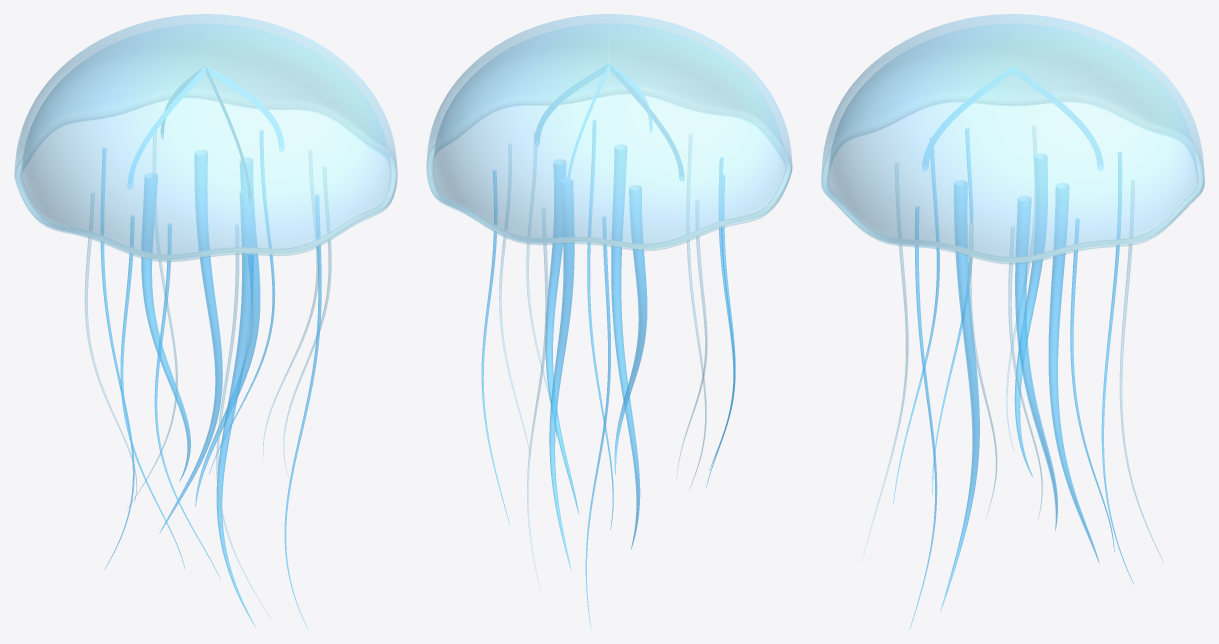
Rendered from glass-jellyfish.glb.
The picture shows the model from 3 angles, left to right: view 1: azimuth 30°, elevation 25°; view 2: azimuth 150°, elevation 25°; view 3: azimuth 270°, elevation 25°; orthographic projection. The views are drawn at different scales.
Visible parts, largest first — view 1: Thin rounded glass bell, Soft glass lip, Inner flowing arm 12, Inner flowing arm 11, Inner flowing arm 13, Inner flowing arm 14, Fine glass tentacle 4, Fine glass tentacle 8, Fine glass tentacle 7, Fine glass tentacle 2, Fine glass tentacle 10, Fine glass tentacle 6 (+6 smaller); view 2: Thin rounded glass bell, Inner flowing arm 12, Soft glass lip, Inner flowing arm 11, Inner flowing arm 14, Inner flowing arm 13, Fine glass tentacle 4, Fine glass tentacle 8, Fine glass tentacle 3, Fine glass tentacle 6, Fine glass tentacle 10, Fine glass tentacle 7 (+6 smaller); view 3: Thin rounded glass bell, Soft glass lip, Inner flowing arm 12, Inner flowing arm 11, Inner flowing arm 14, Inner flowing arm 13, Fine glass tentacle 8, Fine glass tentacle 4, Fine glass tentacle 3, Fine glass tentacle 7, Fine glass tentacle 6, Fine glass tentacle 2 (+5 smaller).
Part boxes in pixels (x1=…): Thin rounded glass bell: x1=14, y1=14, x2=397, y2=259; Soft glass lip: x1=14, y1=151, x2=397, y2=262; Inner flowing arm 12: x1=216, y1=189, x2=255, y2=627; Inner flowing arm 11: x1=159, y1=150, x2=222, y2=533; Inner flowing arm 13: x1=141, y1=173, x2=190, y2=481; Inner flowing arm 14: x1=195, y1=158, x2=260, y2=506; Fine glass tentacle 4: x1=284, y1=195, x2=321, y2=629; Fine glass tentacle 8: x1=100, y1=148, x2=134, y2=570; Fine glass tentacle 7: x1=216, y1=225, x2=272, y2=621; Fine glass tentacle 2: x1=154, y1=224, x2=220, y2=579; Fine glass tentacle 10: x1=120, y1=215, x2=184, y2=568; Fine glass tentacle 6: x1=209, y1=130, x2=275, y2=474; Thin rounded glass bell: x1=426, y1=14, x2=792, y2=248; Inner flowing arm 12: x1=611, y1=144, x2=640, y2=548; Soft glass lip: x1=426, y1=145, x2=792, y2=251; Inner flowing arm 11: x1=549, y1=179, x2=574, y2=570; Inner flowing arm 14: x1=545, y1=159, x2=578, y2=513; Inner flowing arm 13: x1=614, y1=185, x2=647, y2=474; Fine glass tentacle 4: x1=587, y1=120, x2=613, y2=529; Fine glass tentacle 8: x1=585, y1=216, x2=610, y2=629; Fine glass tentacle 3: x1=527, y1=209, x2=548, y2=592; Fine glass tentacle 6: x1=481, y1=170, x2=509, y2=524; Fine glass tentacle 10: x1=706, y1=174, x2=735, y2=487; Fine glass tentacle 7: x1=687, y1=134, x2=706, y2=487; Thin rounded glass bell: x1=821, y1=14, x2=1204, y2=262; Soft glass lip: x1=821, y1=145, x2=1204, y2=264; Inner flowing arm 12: x1=940, y1=180, x2=979, y2=611; Inner flowing arm 11: x1=1048, y1=183, x2=1099, y2=563; Inner flowing arm 14: x1=1015, y1=196, x2=1057, y2=530; Inner flowing arm 13: x1=1014, y1=153, x2=1047, y2=477; Fine glass tentacle 8: x1=1101, y1=152, x2=1133, y2=584; Fine glass tentacle 4: x1=909, y1=206, x2=937, y2=629; Fine glass tentacle 3: x1=1119, y1=181, x2=1163, y2=562; Fine glass tentacle 7: x1=862, y1=163, x2=908, y2=560; Fine glass tentacle 6: x1=1070, y1=218, x2=1114, y2=551; Fine glass tentacle 2: x1=893, y1=138, x2=939, y2=503.
Bounding box in the file's own units: 1.4 × 2.29 × 1.4.
